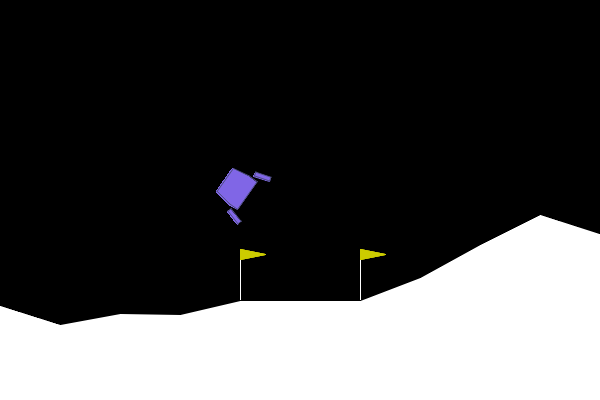lander: (206, 155, 273, 227)
